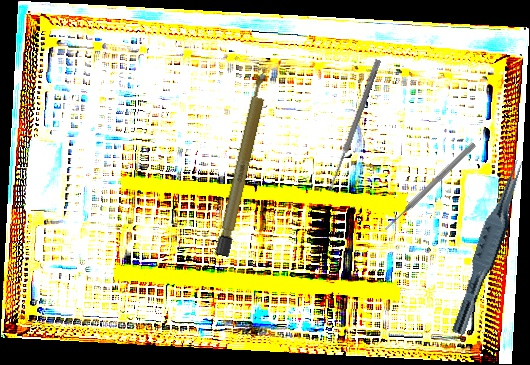Pusher: (381, 140, 478, 234)
Scalpel Handle: (214, 69, 273, 258)
Surgical Spoon: (326, 58, 382, 193)
Tissue Forceps: (450, 156, 529, 339)
